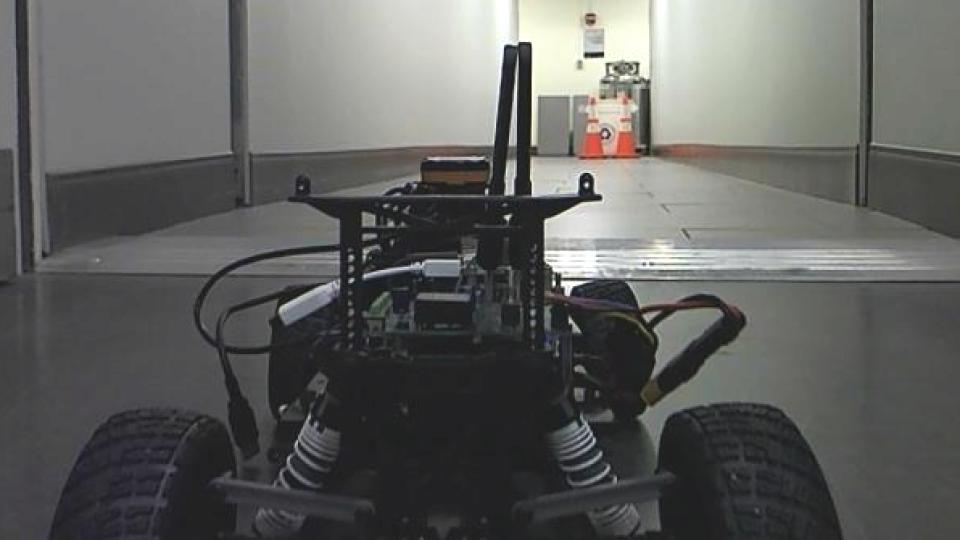car: (38, 39, 850, 540)
